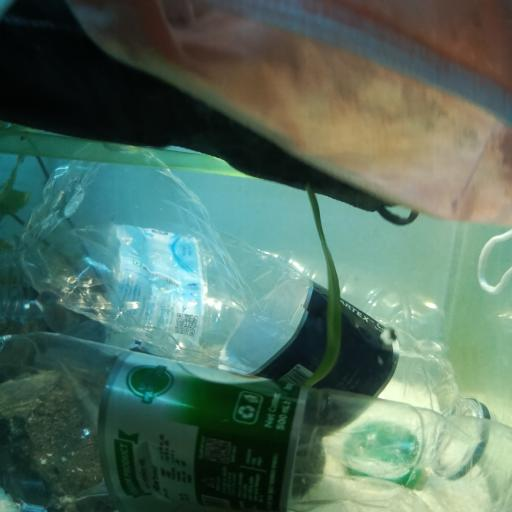mask: (74, 3, 512, 291), (0, 0, 418, 224)
plastic_bottle: (25, 144, 499, 484), (2, 331, 512, 512), (6, 218, 447, 380)
plastic_straw: (0, 124, 244, 177)
